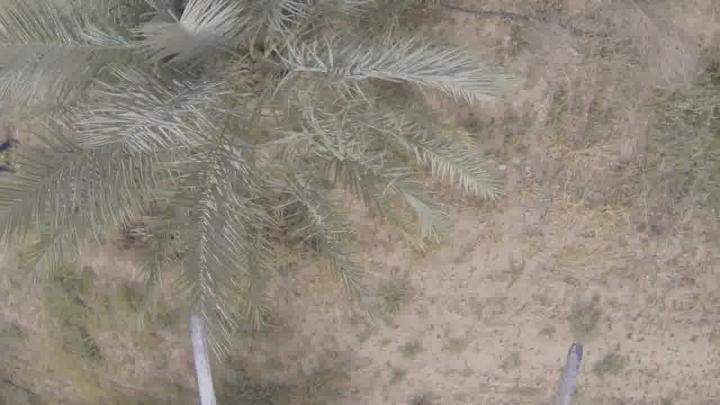Date-Palm-Crown: (66, 0, 364, 240)
